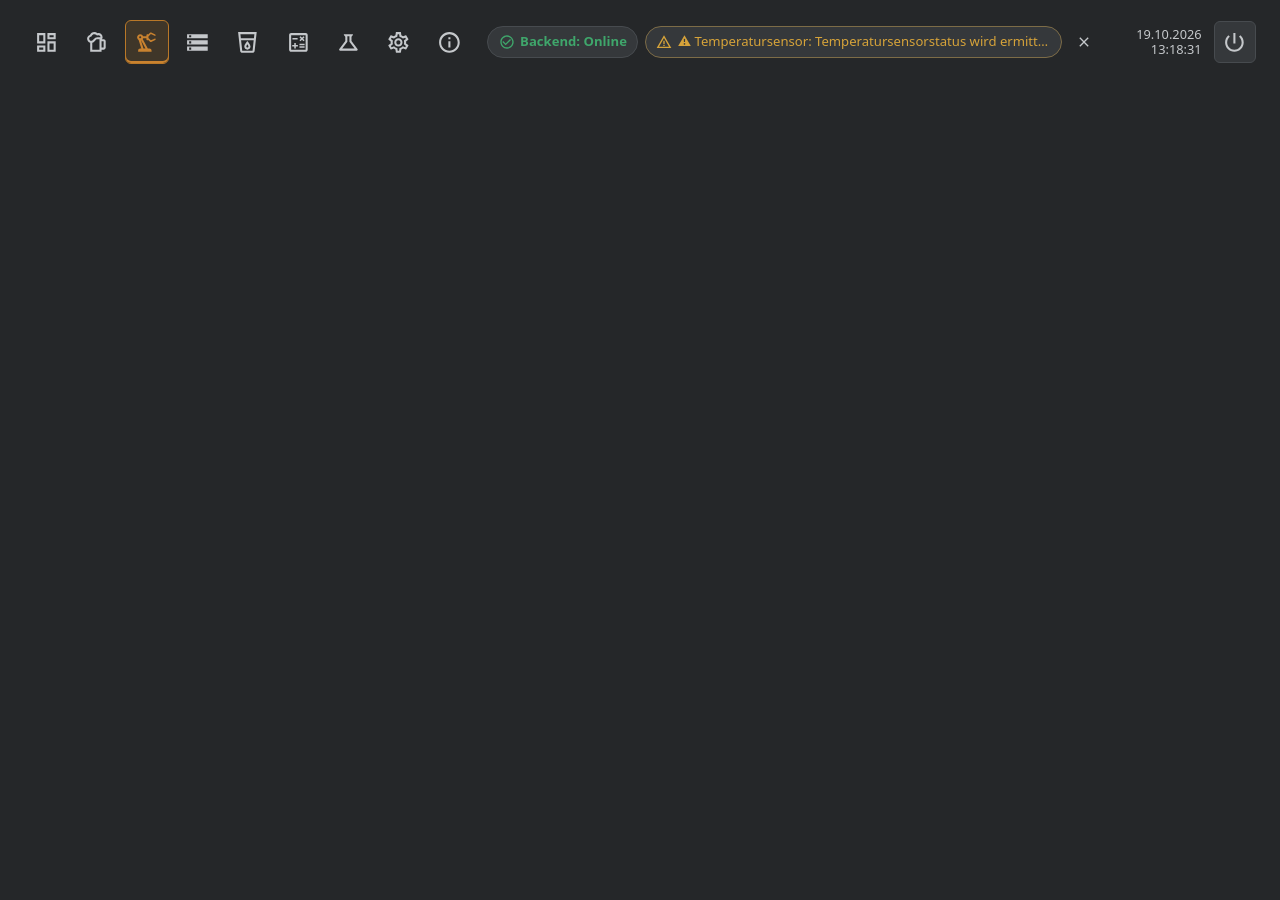
Test: Header navigation › warns explicitly when a brewing process is active
Click the button named "Brauhaus herunterfahren" at [1235, 42], box [1214, 21, 1256, 63]
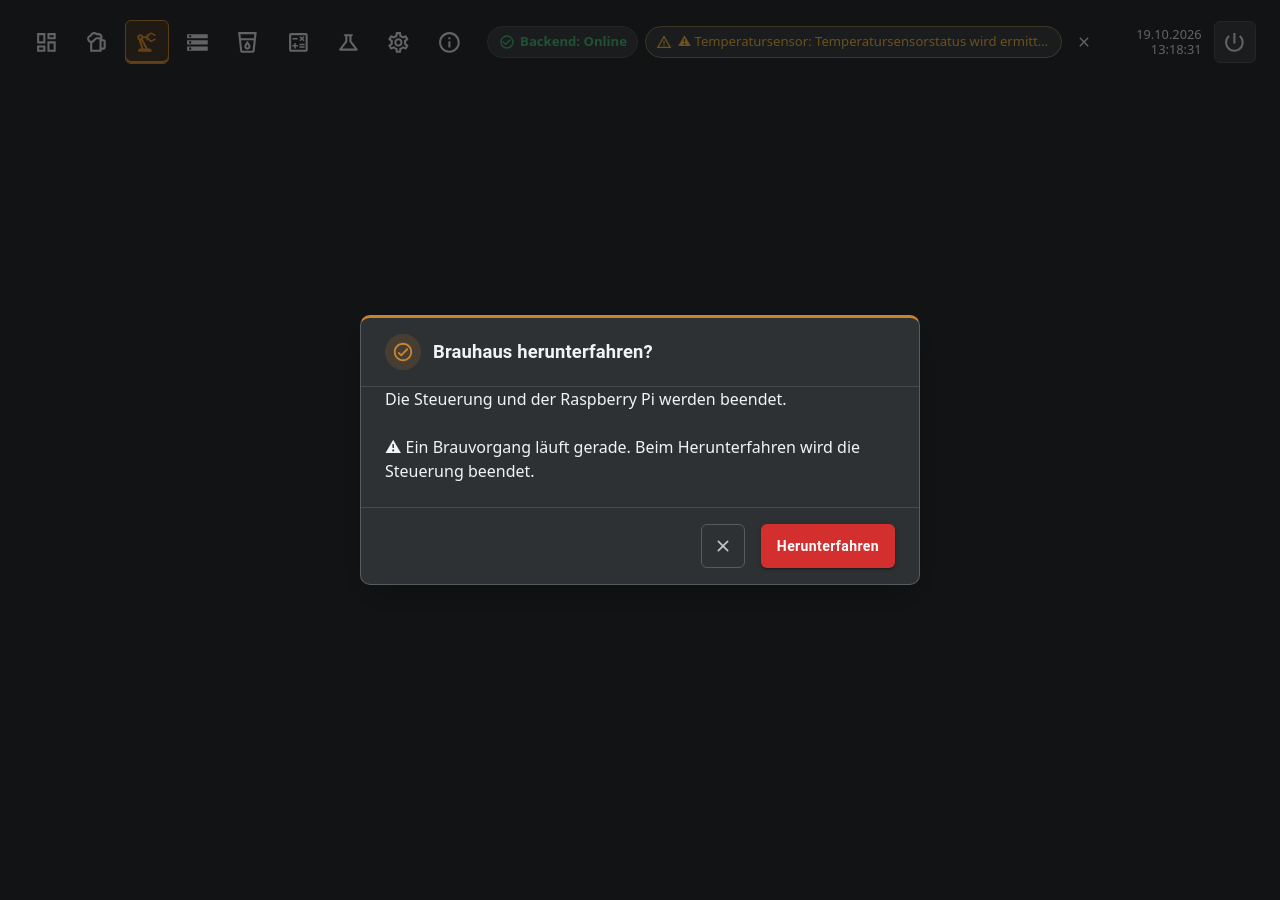
Expected: the text "Ein Brauvorgang läuft gerade" is shown, [385, 436, 860, 482]
